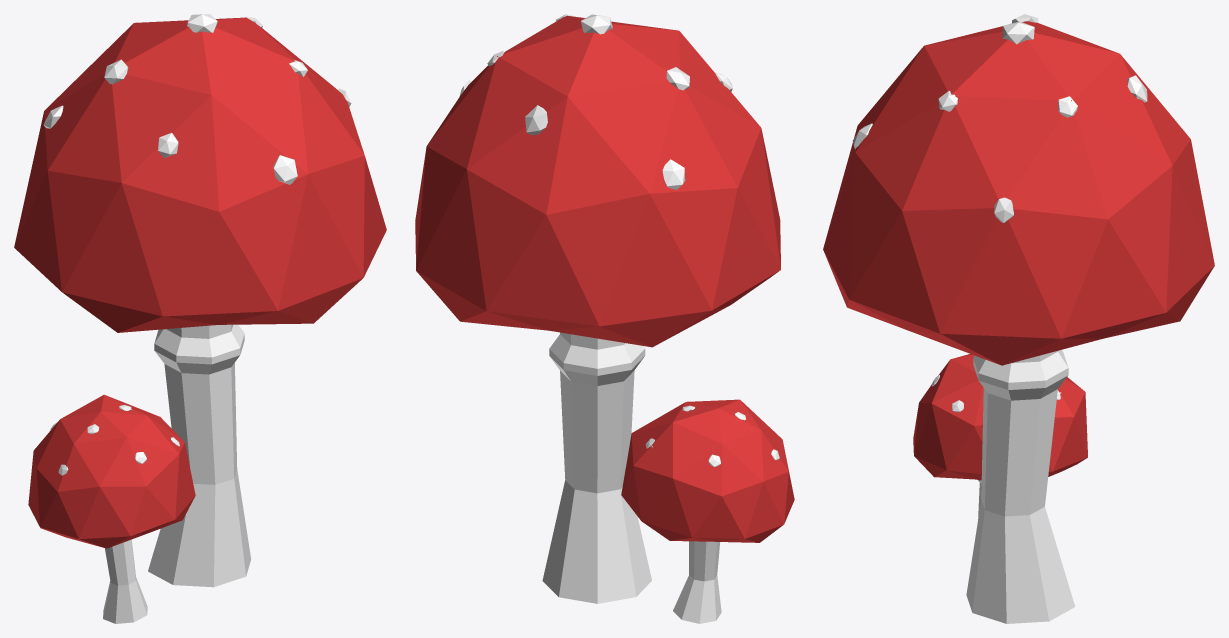
The model's file is Mushroom_06.fbx.
The picture shows the model from 3 angles, left to right: view 1: azimuth 30°, elevation 25°; view 2: azimuth 150°, elevation 25°; view 3: azimuth 270°, elevation 25°; orthographic projection. The views are drawn at different scales.
Visible parts, largest first — view 1: Mushroom_06; view 2: Mushroom_06; view 3: Mushroom_06.
Part boxes in pixels (<box>): Mushroom_06: <box>14,14,386,623</box>; Mushroom_06: <box>415,14,794,623</box>; Mushroom_06: <box>823,14,1214,623</box>.
Bounding box in the file's own units: 19.82 × 32.83 × 19.43.
